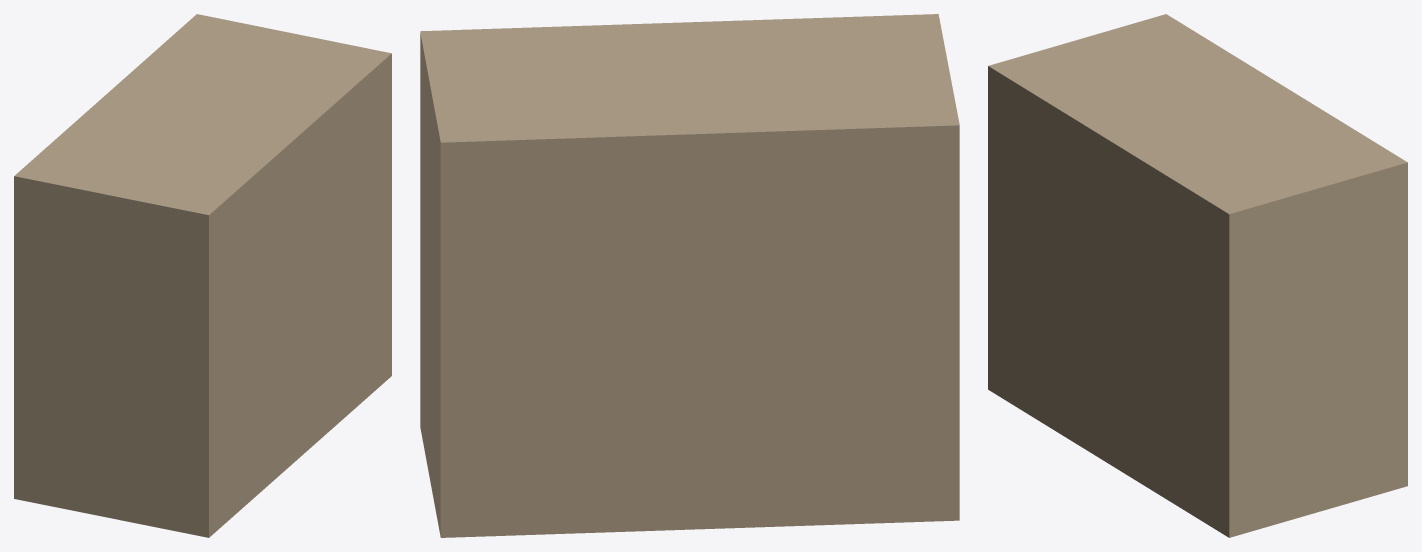
File: bld_164605922.dae
The picture shows the model from 3 angles, left to right: view 1: azimuth 30°, elevation 25°; view 2: azimuth 150°, elevation 25°; view 3: azimuth 270°, elevation 25°; orthographic projection. The views are drawn at different scales.
Parts seen in each view (by area): view 1: bld_164605922; view 2: bld_164605922; view 3: bld_164605922.
Boxes of the visible parts, x1,y1,x2,y2 form: bld_164605922: (14,14,391,537); bld_164605922: (420,14,959,537); bld_164605922: (988,14,1407,537).
Bounding box in the file's own units: 10.61 × 9.4 × 8.
